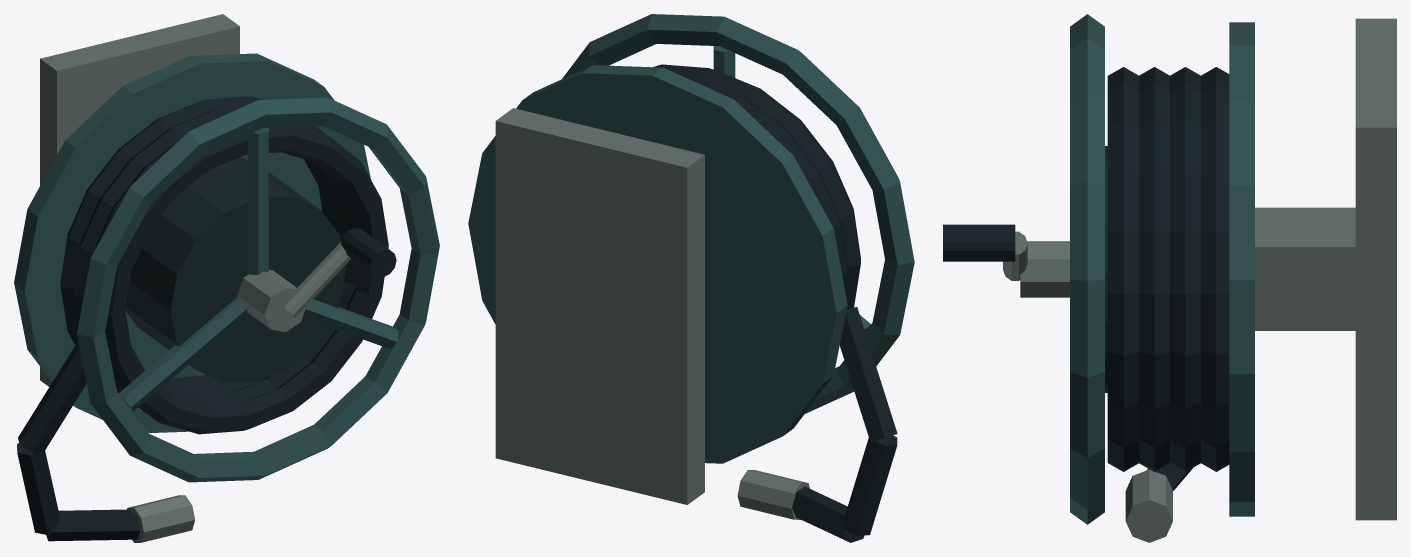
File: hose-reel.glb
The picture shows the model from 3 angles, left to right: view 1: azimuth 30°, elevation 25°; view 2: azimuth 150°, elevation 25°; view 3: azimuth 270°, elevation 25°; orthographic projection. The views are drawn at different scales.
Visible parts, largest first — view 1: hose-reel; view 2: hose-reel; view 3: hose-reel.
Boxes of the visible parts, x1,y1,x2,y2 form: hose-reel: (14, 14, 439, 542); hose-reel: (468, 14, 914, 542); hose-reel: (943, 14, 1396, 542).
Size of the model in its own units: 0.5254 by 0.571 by 0.44.
